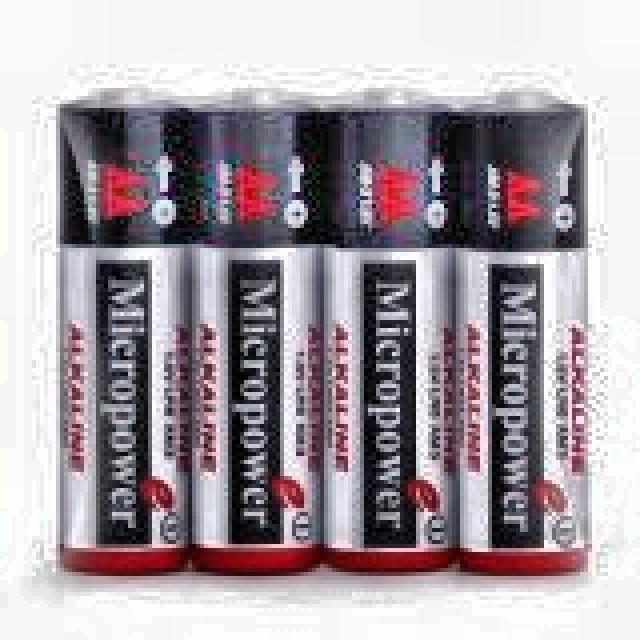Non-Valuable Waste - Batteries: (60, 89, 589, 574)
